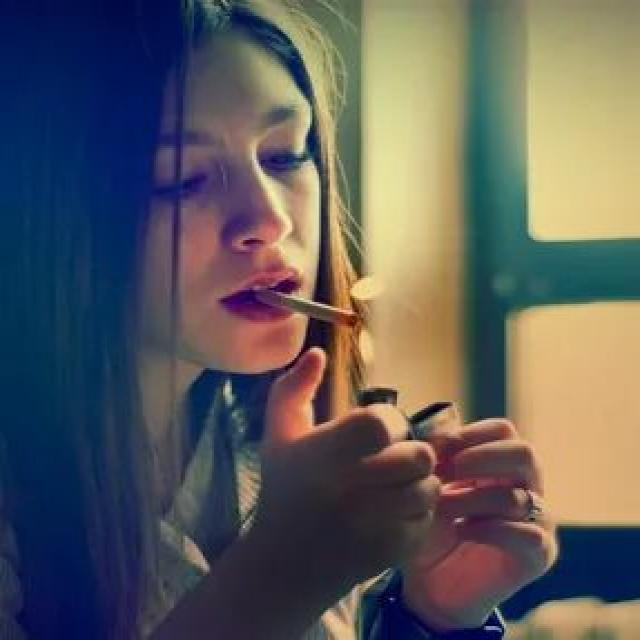cigarette: (250, 280, 370, 334)
